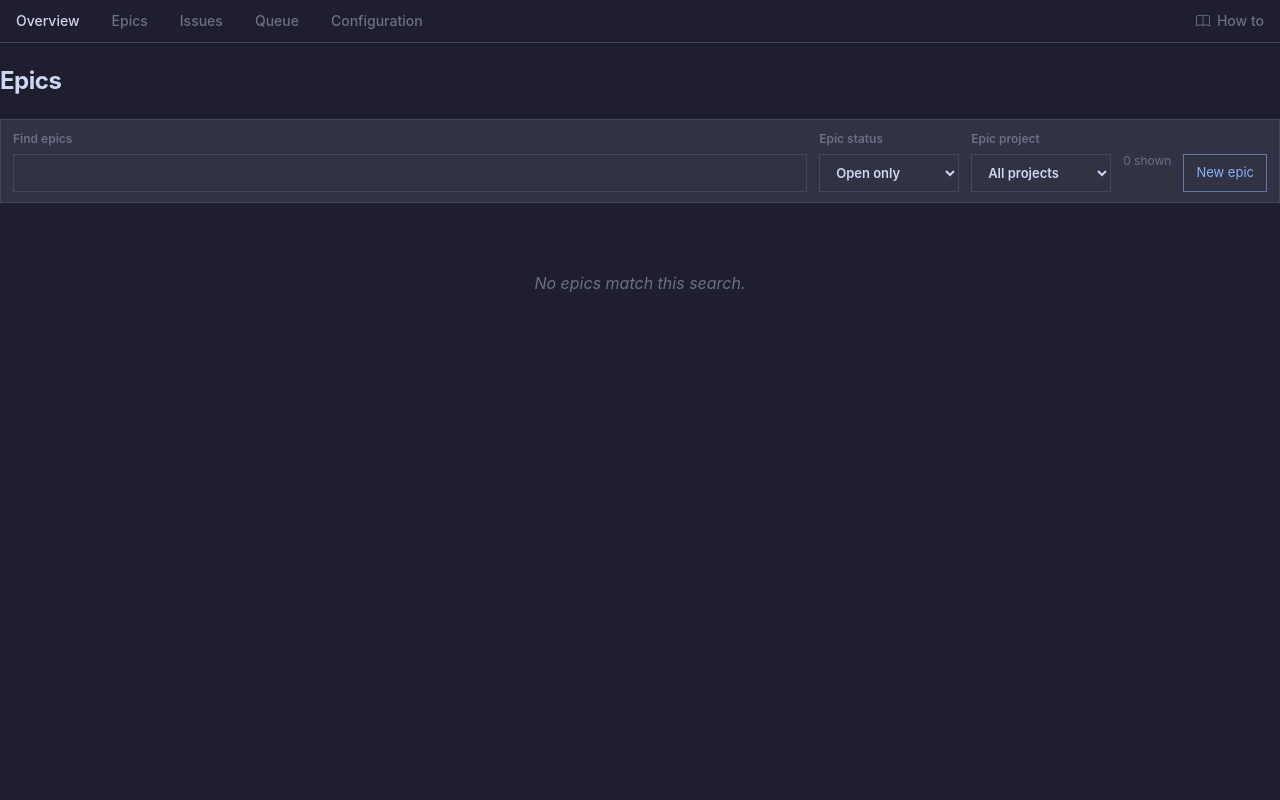
Test: Factory interactions › creates an epic and clears the form after success
Expected: the field labelled "Goal" is not shown
Click the button "New epic": [1225, 173] box [1183,154,1267,192]
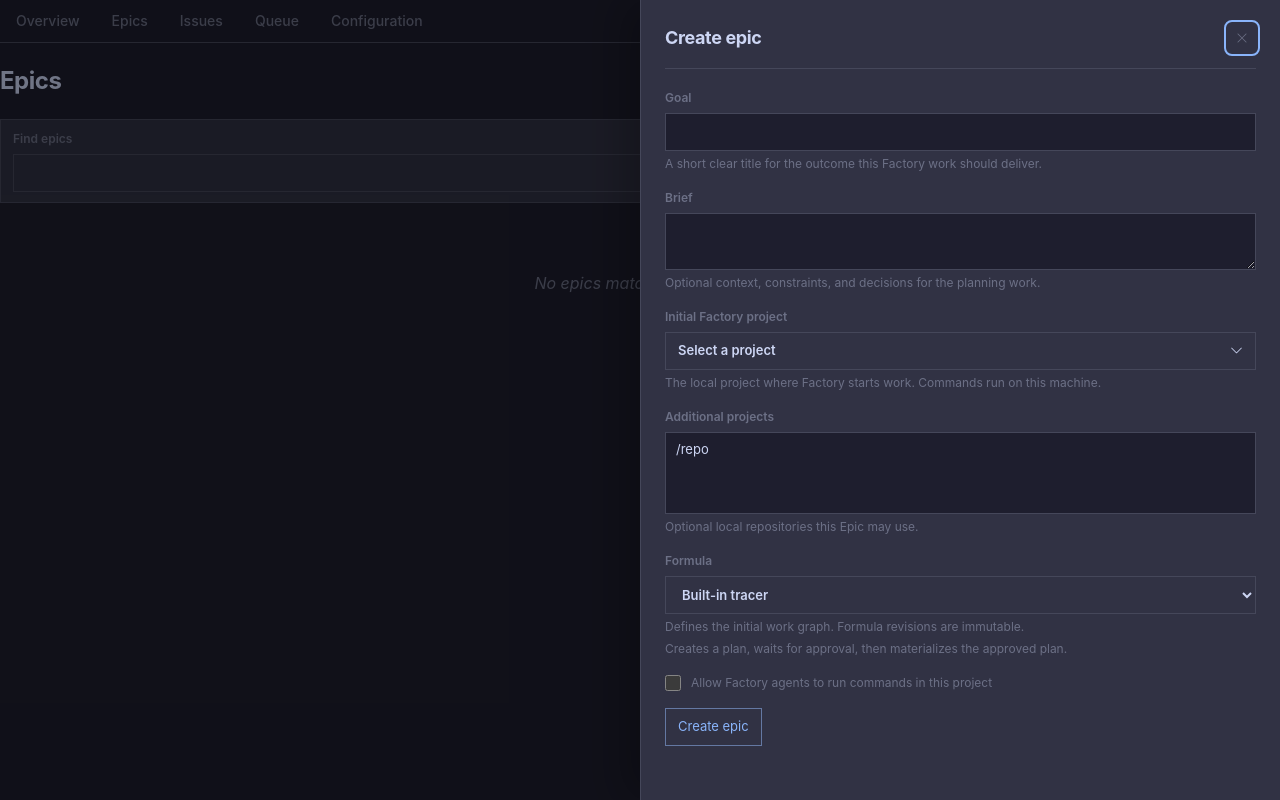
In the field labelled "Goal": [960, 132] box [665,113,1256,151], type " Ship Factory "
In the text box labelled "Brief": [960, 242] box [665,213,1256,270], type " Native graph "
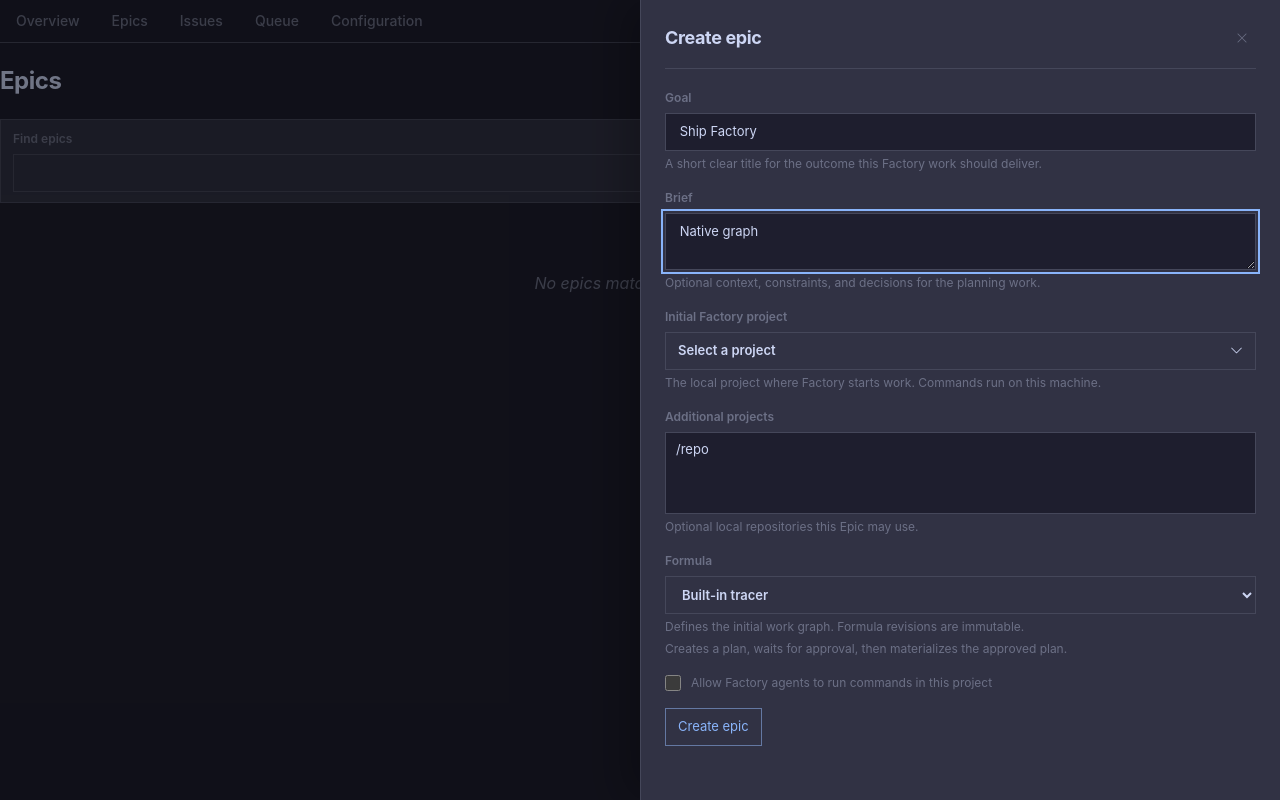
Click the dropdown named "Initial Factory project": [727, 350] box [665,332,1256,370]
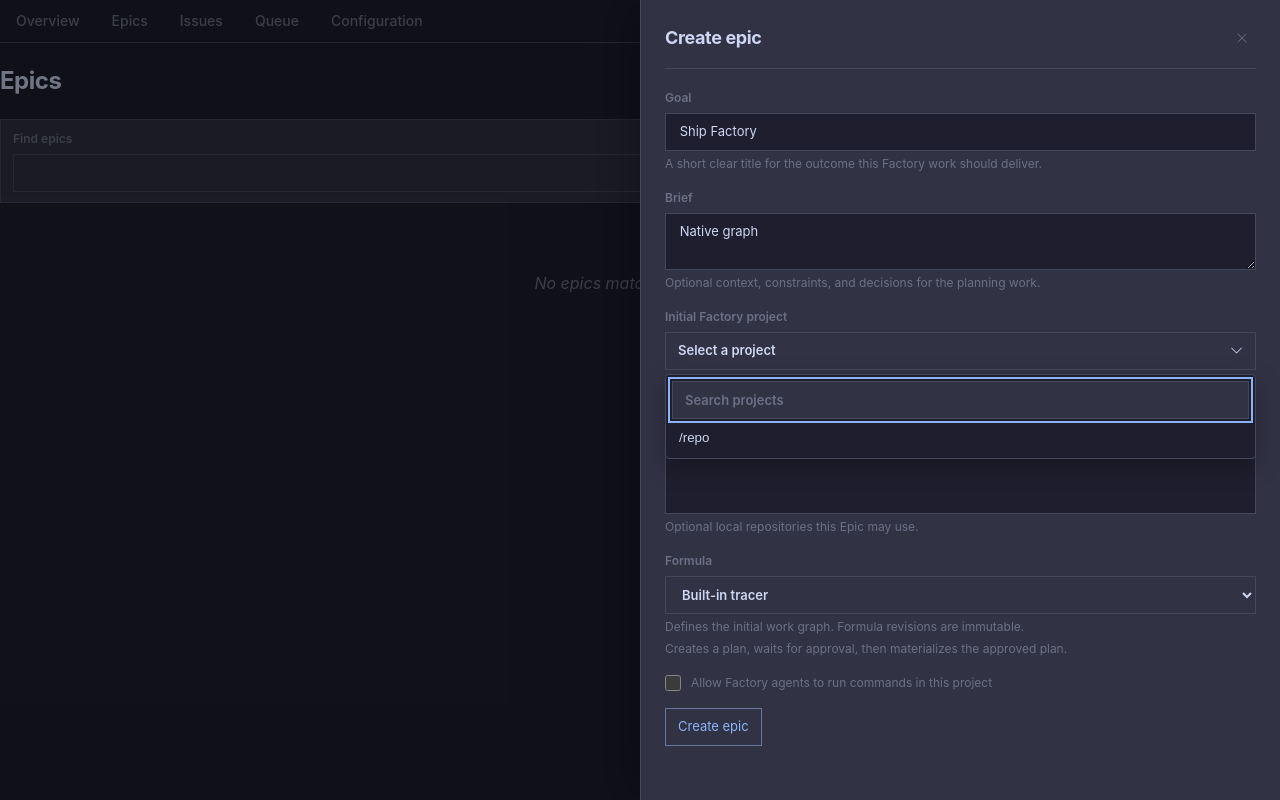
Click the option "/repo": [694, 438] box [672,423,1249,452]
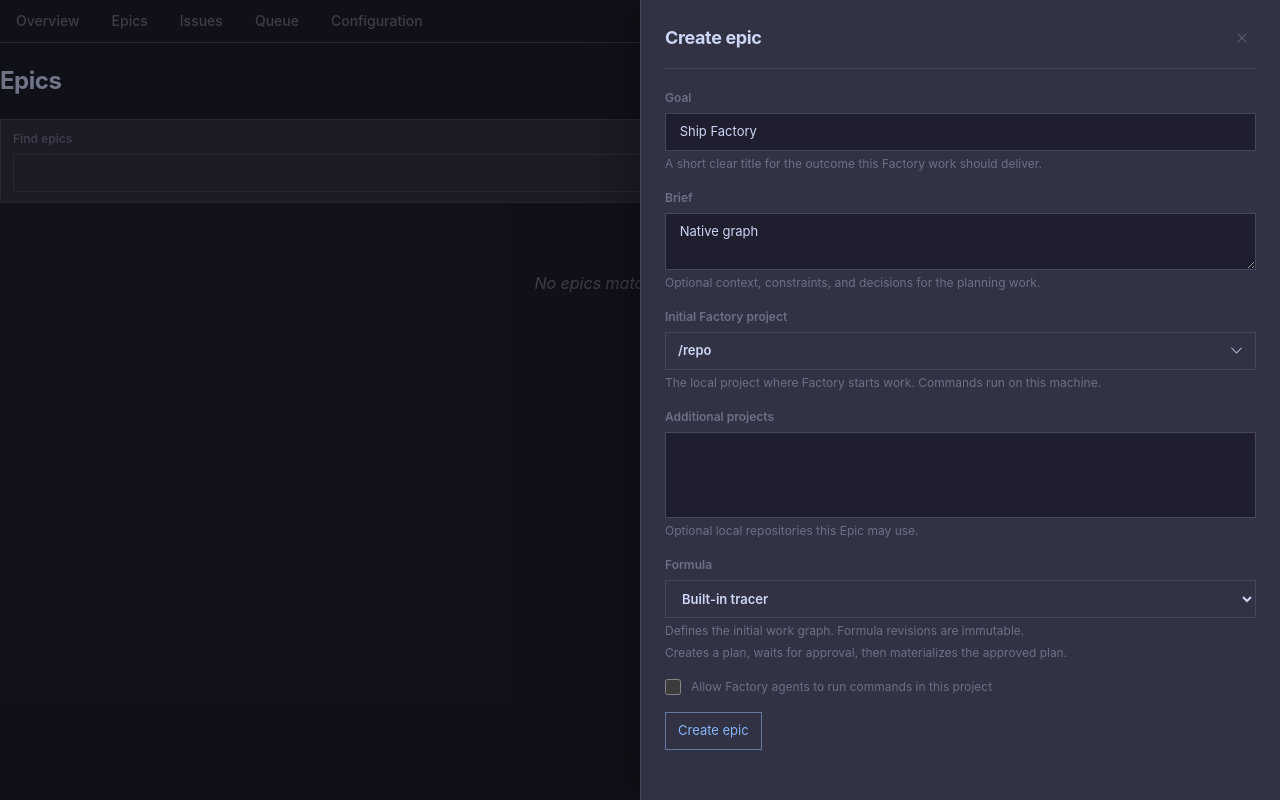
Click the checkbox labelled "Allow Factory agents to run commands in this project": [673, 687] box [665,679,681,695]
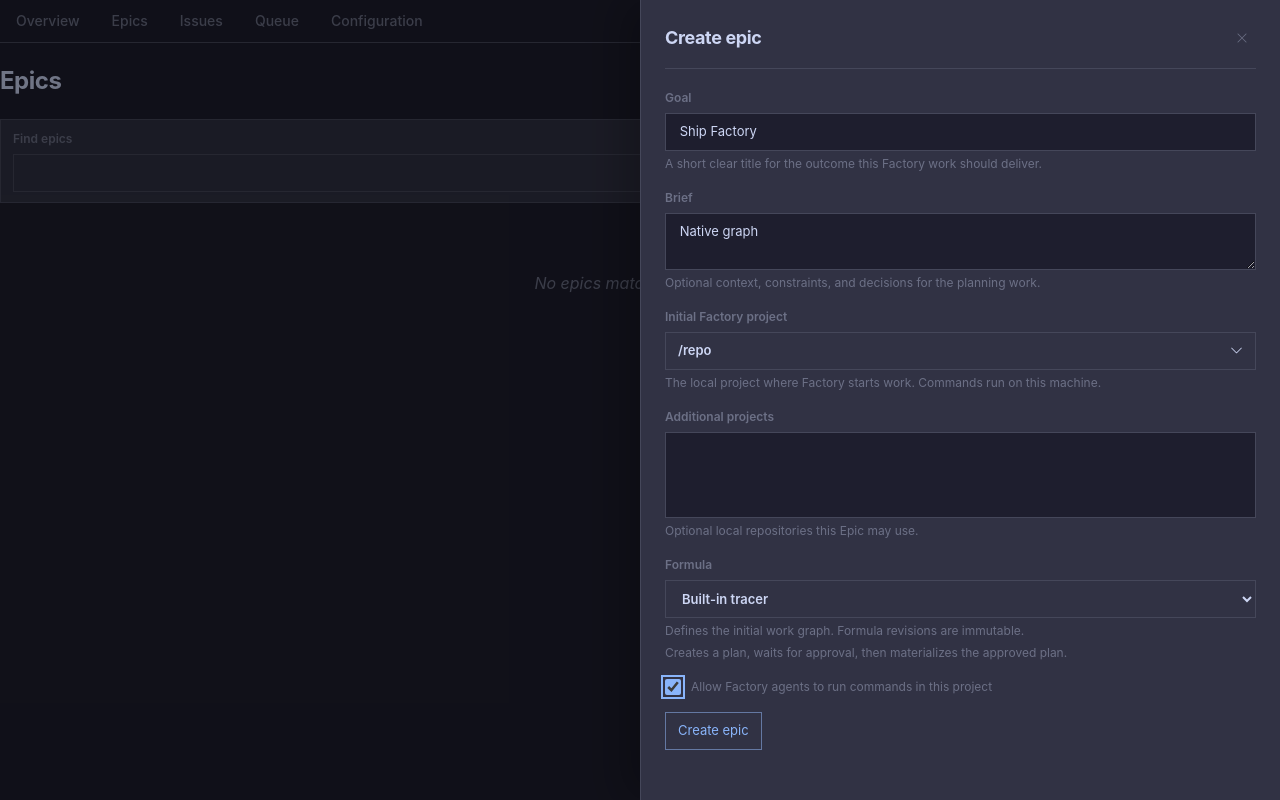
Click the button "Create epic": [713, 731] box [665,712,762,750]
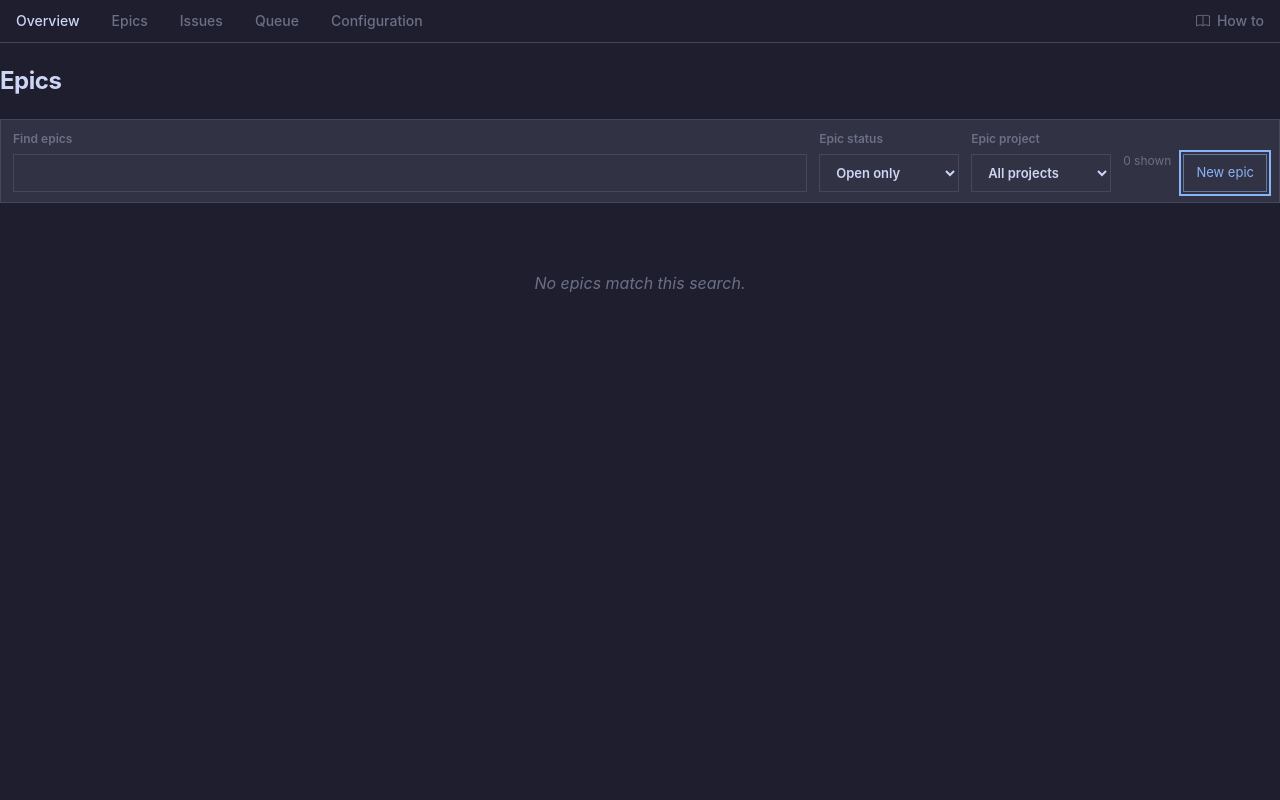
Expected: the heading "Create epic" is gone
